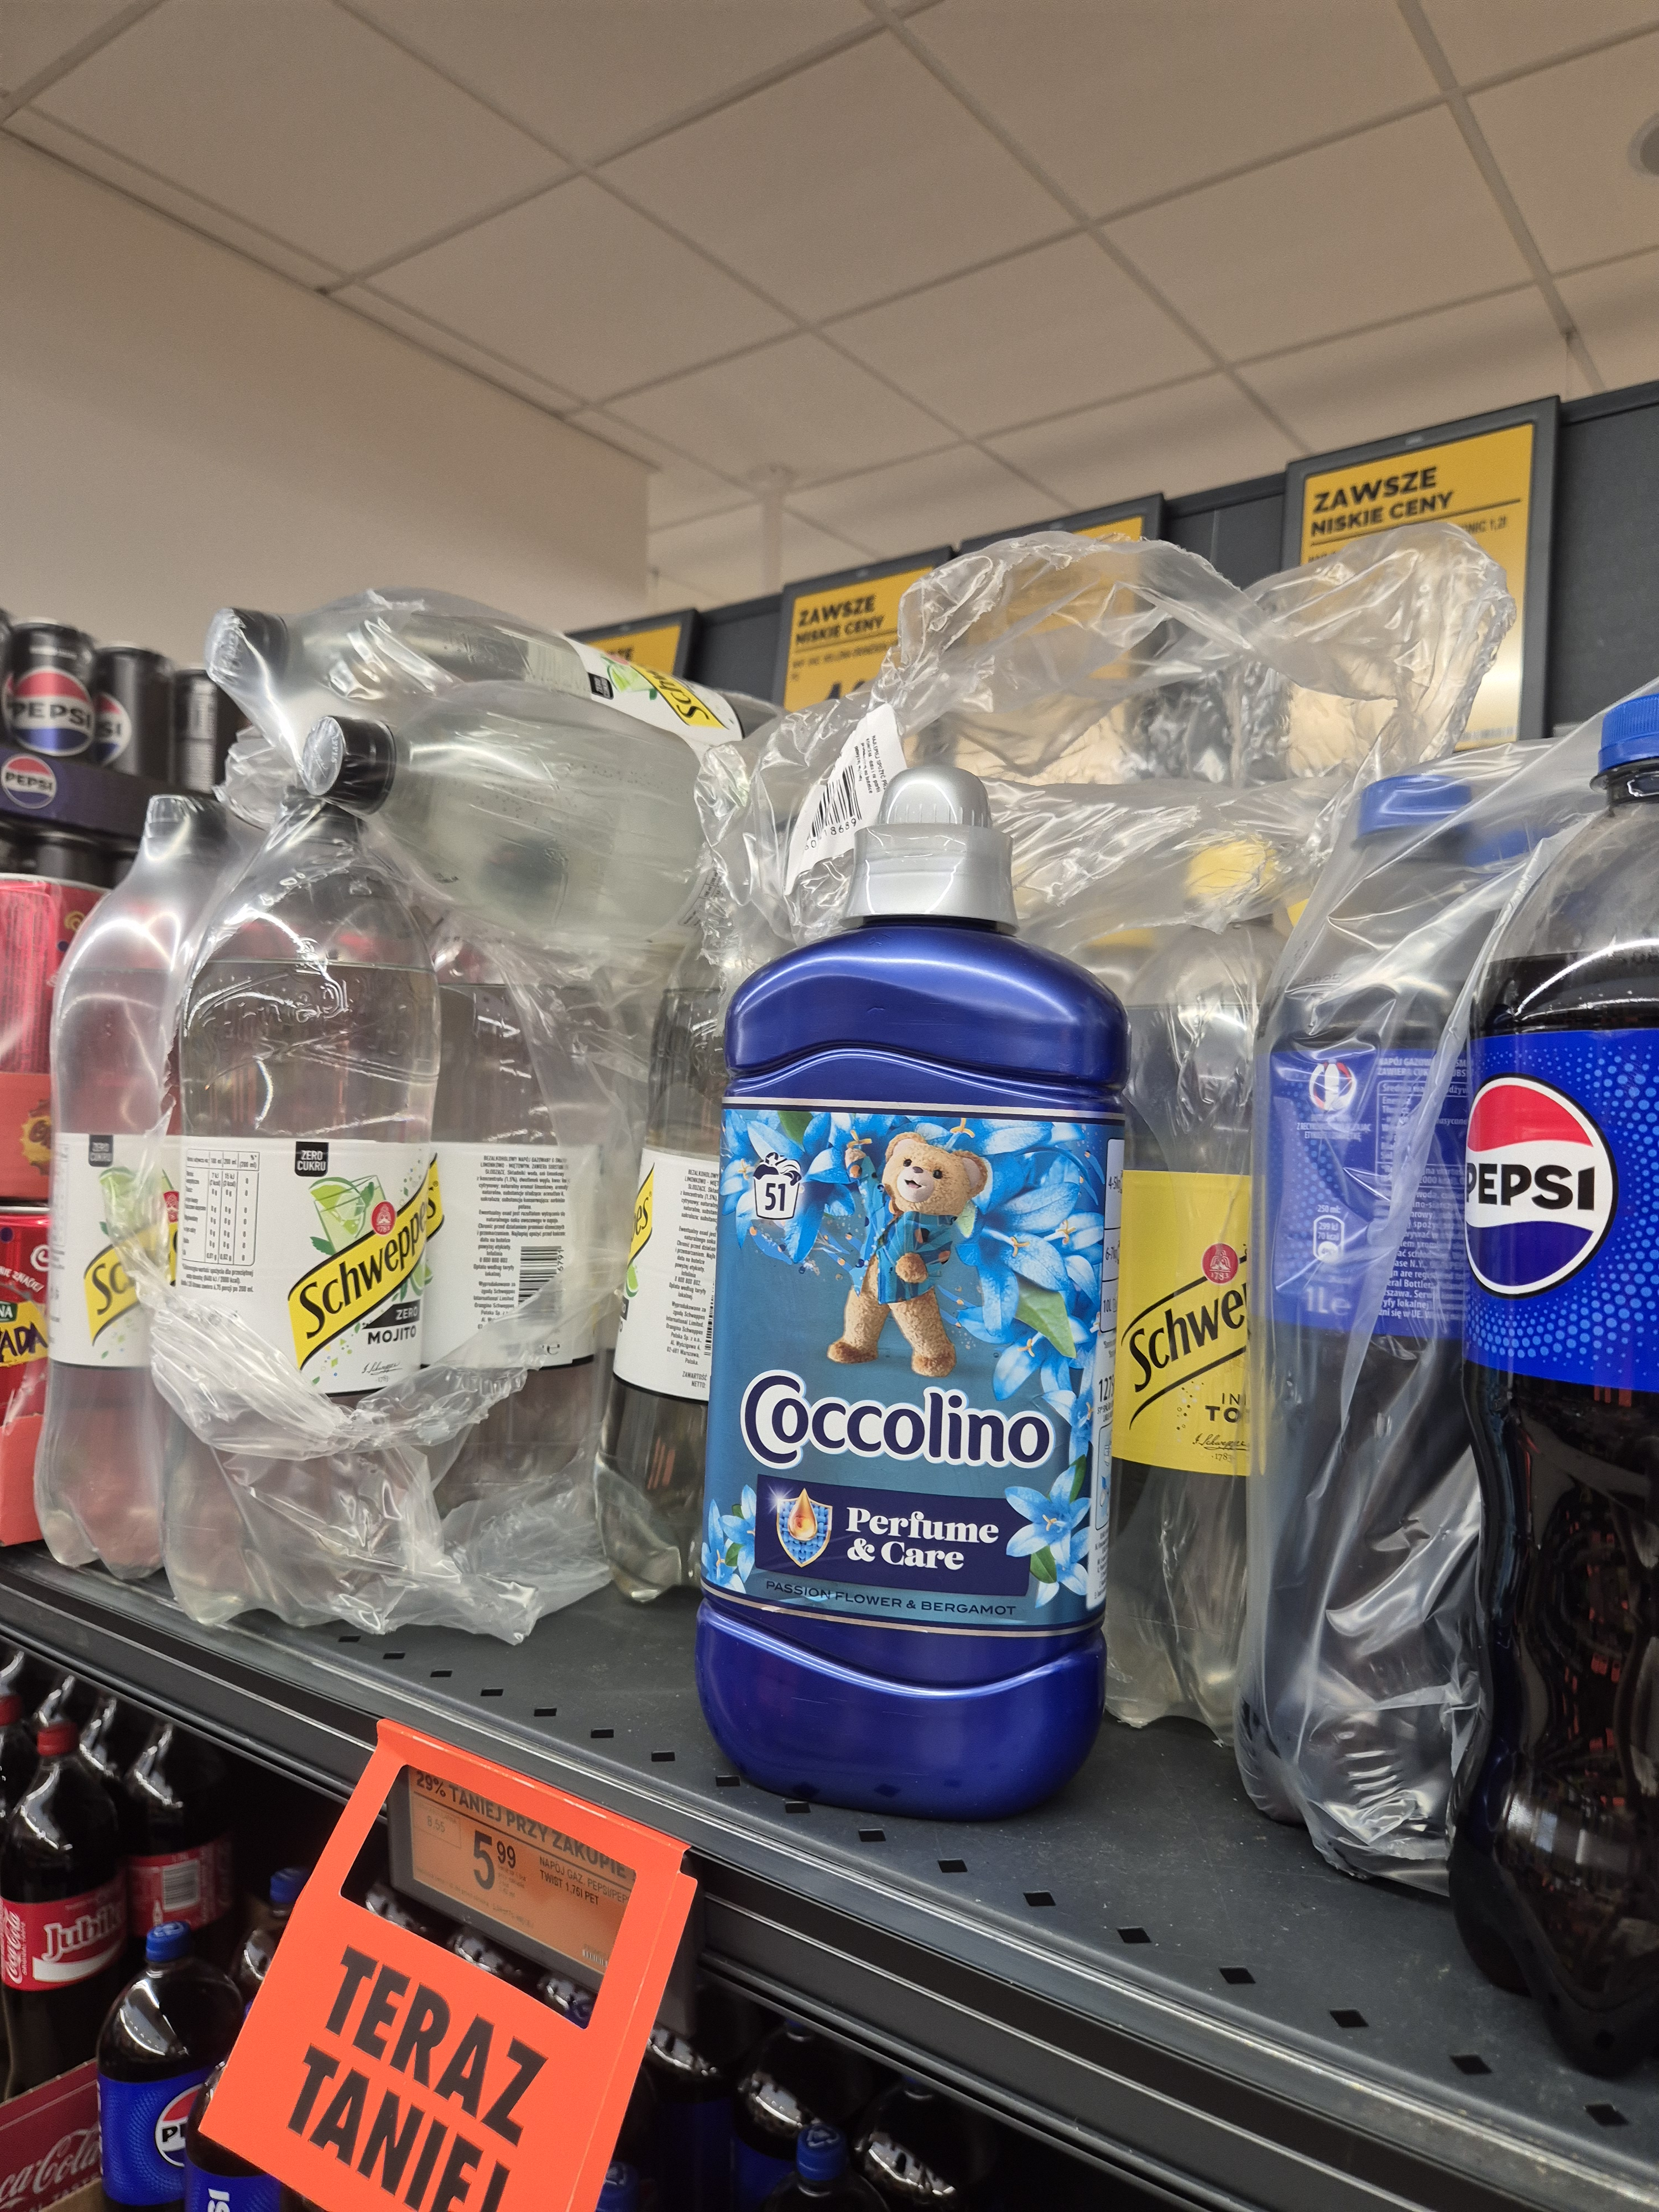cocolino: (737, 768, 1127, 1822)
